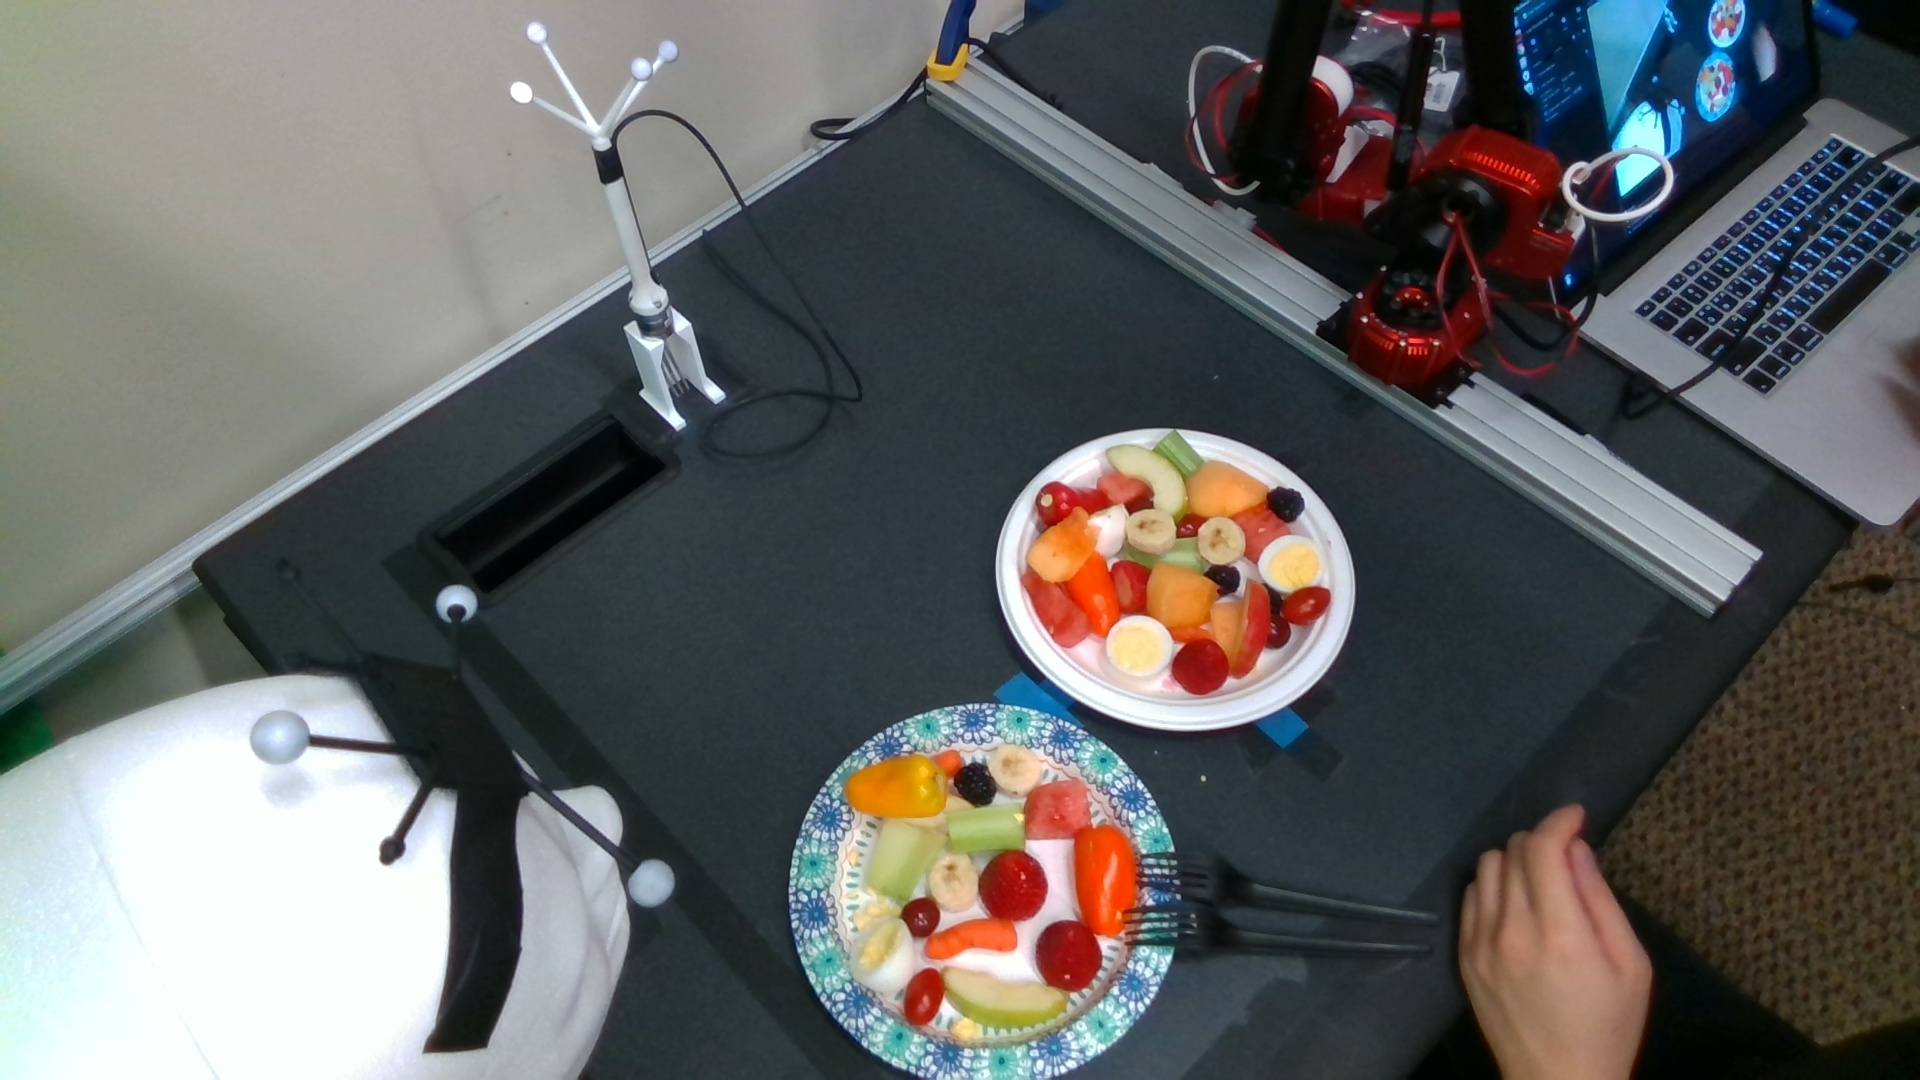apple: (942, 967, 1068, 1029), (1106, 444, 1185, 520), (1232, 580, 1269, 676)
banana: (928, 853, 978, 911), (989, 746, 1040, 796), (1197, 517, 1246, 564), (1126, 510, 1176, 553)
bell pepper: (1075, 825, 1135, 935), (847, 756, 945, 818), (1068, 553, 1120, 636), (1035, 483, 1112, 525)
blackberry: (955, 764, 996, 804), (1267, 487, 1305, 522)
cantalope: (1027, 506, 1100, 584), (1185, 459, 1267, 520), (1147, 563, 1213, 628)
carrot: (927, 919, 1017, 961)
celery: (866, 818, 947, 899), (945, 803, 1025, 851), (1153, 430, 1203, 477)
cherry tomato: (905, 969, 942, 1026), (1282, 585, 1331, 624)
egg: (851, 916, 913, 989), (1106, 615, 1172, 673), (1259, 534, 1323, 591)
grape: (903, 898, 938, 935)
melon: (1022, 575, 1087, 647), (1027, 779, 1092, 839), (1229, 502, 1290, 563)
plate: (789, 703, 1182, 1079), (994, 427, 1356, 732)
strawberry: (980, 852, 1048, 920), (1038, 920, 1101, 992), (1172, 640, 1229, 695), (1112, 560, 1151, 615)
